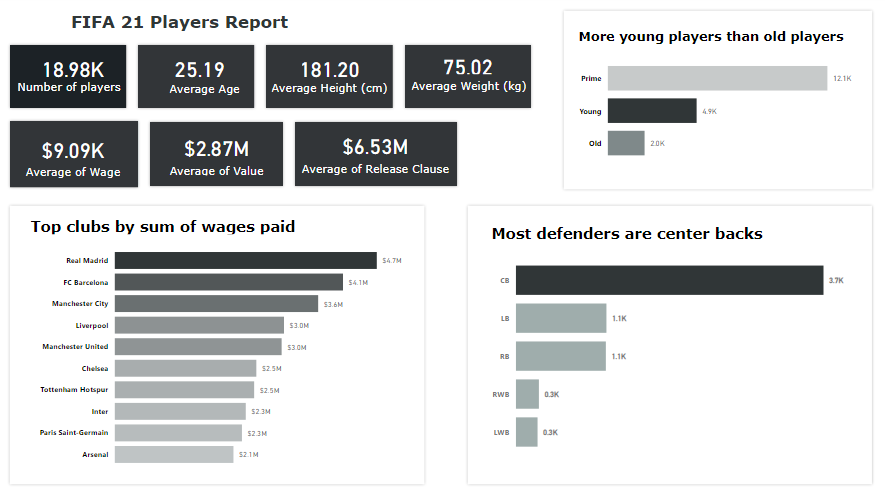

Layout of this report page (visuals, bound fields, positions):
{"tool":"powerbi","page":{"name":"Overview","canvas":[1280,720],"ordinal":3},"visuals":[{"type":"textbox","box":[0,16.8,522.4,45.4],"z":0},{"type":"shape","box":[197.6,65.7,176.4,99.1],"z":0,"group":"g3"},{"type":"group","id":"g1","title":"Group 5","box":[581.5,65.7,197.1,99.1],"z":1000},{"type":"card","fields":{"Values":["Avg(fifa21_raw_data_v2.Age)"]},"box":[236.1,78.1,107.5,50.4],"z":1000,"group":"g11"},{"type":"shape","box":[811.3,16.8,451.9,265.4],"z":2000,"group":"g9"},{"type":"group","id":"g2","title":"Group 6","box":[381.4,65.7,196.8,99.1],"z":2000},{"type":"shape","box":[13.2,175.9,193.2,104.1],"z":2000,"group":"g5"},{"type":"clusteredBarChart","title":"More young players than old players","fields":{"Category":["fifa21_raw_data_v2.Age_grade"],"Y":["CountNonNull(fifa21_raw_data_v2.ID)"]},"box":[832,45.1,410.4,208.7],"z":3000,"group":"g9"},{"type":"group","id":"g3","title":"Group 7","box":[197.6,65.7,176.4,99.1],"z":3000},{"type":"shape","box":[214.8,177.6,199.9,100.8],"z":3000,"group":"g6"},{"type":"group","id":"g4","title":"Group 8","box":[13.2,65.7,178.3,99.1],"z":4000},{"type":"card","fields":{"Values":["Avg(fifa21_raw_data_v2.Wage_)"]},"box":[33.4,191.7,149.8,76.3],"z":4000,"group":"g5"},{"type":"shape","box":[13,298.1,604.8,409],"z":4000},{"type":"shape","box":[381.4,65.7,191.5,99.1],"z":5000,"group":"g2"},{"type":"group","id":"g5","title":"Group 9","box":[13.2,175.9,193.2,104.1],"z":5000},{"type":"shape","box":[672.5,298.1,590.4,409],"z":5000,"group":"g8"},{"type":"group","id":"g6","title":"Group 10","box":[214.8,177.6,199.9,100.8],"z":6000},{"type":"card","fields":{"Values":["Avg(fifa21_raw_data_v2.Value_)"]},"box":[231.6,191.9,166.3,72.2],"z":6000,"group":"g6"},{"type":"clusteredBarChart","title":"Most defenders are center backs","fields":{"Category":["fifa21_raw_data_v2.Best Position"],"Y":["CountNonNull(fifa21_raw_data_v2.ID)"]},"box":[706,327.9,523.3,349.4],"z":6000,"group":"g8"},{"type":"card","fields":{"Values":["Avg(fifa21_raw_data_v2.Height in cm)"]},"box":[426,78.1,102.5,50.4],"z":7000,"group":"g12"},{"type":"group","id":"g7","title":"Group 11","box":[423,177.6,241.9,100.8],"z":7000},{"type":"shape","box":[423,177.6,241.9,100.8],"z":8000,"group":"g7"},{"type":"shape","box":[581.5,65.7,189.8,99.1],"z":9000,"group":"g1"},{"type":"group","id":"g8","title":"Group 13","box":[672.5,298.1,590.4,409],"z":9000},{"type":"group","id":"g9","title":"Group 14","box":[811.3,16.8,451.9,265.4],"z":10000},{"type":"card","fields":{"Values":["Avg(fifa21_raw_data_v2.Weight in kg)"]},"box":[627.7,82.3,97.4,33.6],"z":10000,"group":"g13"},{"type":"clusteredBarChart","title":"Top clubs by sum of wages paid","fields":{"Y":["Sum(fifa21_raw_data_v2.Wage)"],"Category":["fifa21_raw_data_v2.Club"]},"box":[41.8,318.2,548.6,371.5],"z":10001},{"type":"card","fields":{"Values":["Avg(fifa21_raw_data_v2.Release_clause)"]},"box":[431.7,181.3,223.2,86.4],"z":11000,"group":"g7"},{"type":"shape","box":[13.2,65.7,176.4,99.1],"z":16000,"group":"g4"},{"type":"card","title":"Count of players","fields":{"Values":["CountNonNull(fifa21_raw_data_v2.ID)"]},"box":[50.4,78.9,115.2,49],"z":20000,"group":"g10"},{"type":"textbox","box":[23,115.1,168.5,36],"z":23000,"group":"g10"},{"type":"textbox","box":[241.4,116.8,119.5,34.6],"z":24000,"group":"g11"},{"type":"textbox","box":[388.2,116,190.1,37.4],"z":25000,"group":"g12"},{"type":"textbox","box":[590,112.1,188.6,36],"z":26000,"group":"g13"},{"type":"group","id":"g10","title":"Group 1","box":[23,78.9,168.5,72.2],"z":26001,"group":"g4"},{"type":"group","id":"g11","title":"Group 2","box":[236.1,78.1,124.8,73.3],"z":26002,"group":"g3"},{"type":"group","id":"g12","title":"Group 3","box":[388.2,78.1,190.1,75.4],"z":26003,"group":"g2"},{"type":"group","id":"g13","title":"Group 4","box":[590,82.3,188.6,65.8],"z":26004,"group":"g1"}]}

Visuals, with their boxes in screenshot pixels (x1, y1, x2, y2), scaled from the page's 1280x720 canvas onto the 885x494 screenshot:
textbox: crop(0, 12, 361, 43)
shape: crop(137, 45, 259, 113)
"Group 5" group: crop(402, 45, 538, 113)
card - Avg(fifa21_raw_data_v2.Age): crop(163, 54, 238, 88)
shape: crop(561, 12, 873, 194)
"Group 6" group: crop(264, 45, 400, 113)
shape: crop(9, 121, 143, 192)
"More young players than old players" clusteredBarChart: crop(575, 31, 859, 174)
"Group 7" group: crop(137, 45, 259, 113)
shape: crop(149, 122, 287, 191)
"Group 8" group: crop(9, 45, 132, 113)
card - Avg(fifa21_raw_data_v2.Wage_): crop(23, 132, 127, 184)
shape: crop(9, 205, 427, 485)
shape: crop(264, 45, 396, 113)
"Group 9" group: crop(9, 121, 143, 192)
shape: crop(465, 205, 873, 485)
"Group 10" group: crop(149, 122, 287, 191)
card - Avg(fifa21_raw_data_v2.Value_): crop(160, 132, 275, 181)
"Most defenders are center backs" clusteredBarChart: crop(488, 225, 850, 465)
card - Avg(fifa21_raw_data_v2.Height in cm): crop(295, 54, 365, 88)
"Group 11" group: crop(292, 122, 460, 191)
shape: crop(292, 122, 460, 191)
shape: crop(402, 45, 533, 113)
"Group 13" group: crop(465, 205, 873, 485)
"Group 14" group: crop(561, 12, 873, 194)
card - Avg(fifa21_raw_data_v2.Weight in kg): crop(434, 56, 501, 80)
"Top clubs by sum of wages paid" clusteredBarChart: crop(29, 218, 408, 473)
card - Avg(fifa21_raw_data_v2.Release_clause): crop(298, 124, 453, 184)
shape: crop(9, 45, 131, 113)
"Count of players" card: crop(35, 54, 114, 88)
textbox: crop(16, 79, 132, 104)
textbox: crop(167, 80, 250, 104)
textbox: crop(268, 80, 400, 105)
textbox: crop(408, 77, 538, 102)
"Group 1" group: crop(16, 54, 132, 104)
"Group 2" group: crop(163, 54, 250, 104)
"Group 3" group: crop(268, 54, 400, 105)
"Group 4" group: crop(408, 56, 538, 102)
